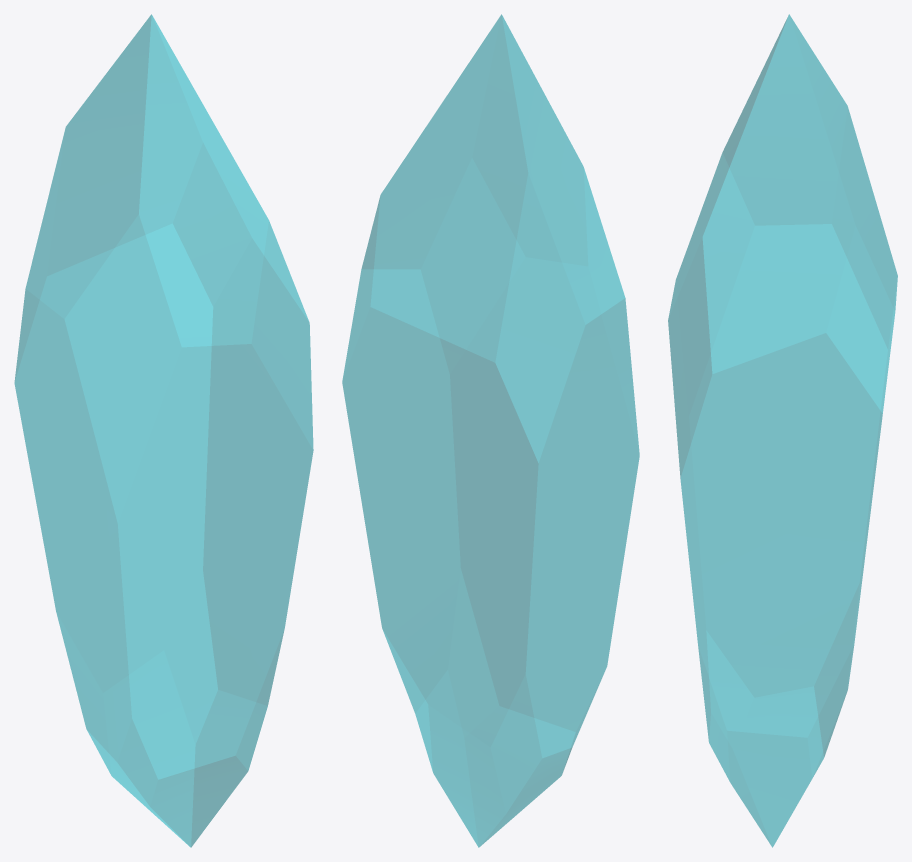
Rendered from Crystal1.fbx.
The picture shows the model from 3 angles, left to right: view 1: azimuth 30°, elevation 25°; view 2: azimuth 150°, elevation 25°; view 3: azimuth 270°, elevation 25°; orthographic projection. The views are drawn at different scales.
Parts seen in each view (by area): view 1: Crystal1; view 2: Crystal1; view 3: Crystal1.
Boxes of the visible parts, x1,y1,x2,y2 form: Crystal1: [14, 14, 313, 847]; Crystal1: [342, 14, 639, 847]; Crystal1: [668, 14, 897, 847].
Size of the model in its own units: 0.5413 by 1.93 by 0.4908.
